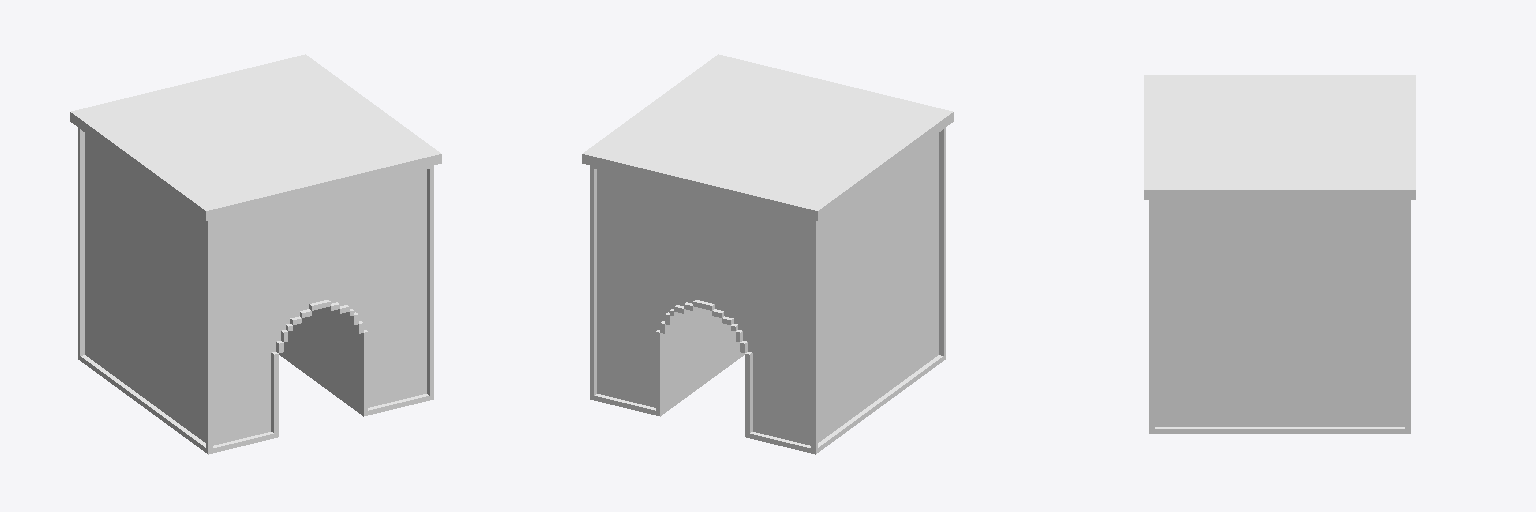
Rendered from tunnelblock_50_50_50.obj.
3 renders of one model, left to right at view 1: azimuth 30°, elevation 25°; view 2: azimuth 150°, elevation 25°; view 3: azimuth 270°, elevation 25°, orthographic.
Parts seen in each view (by area): view 1: object 1; view 2: object 1; view 3: object 1.
Part boxes in pixels (x1,y1,x2,y2): object 1: (70, 54, 441, 454); object 1: (582, 54, 953, 454); object 1: (1144, 75, 1415, 433).
Size of the model in its own units: 5 by 5 by 5.